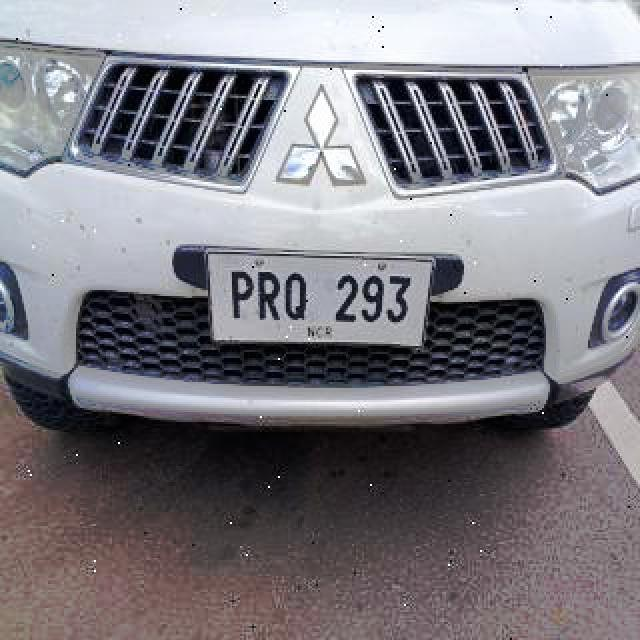license_plate: (195, 240, 444, 364)
